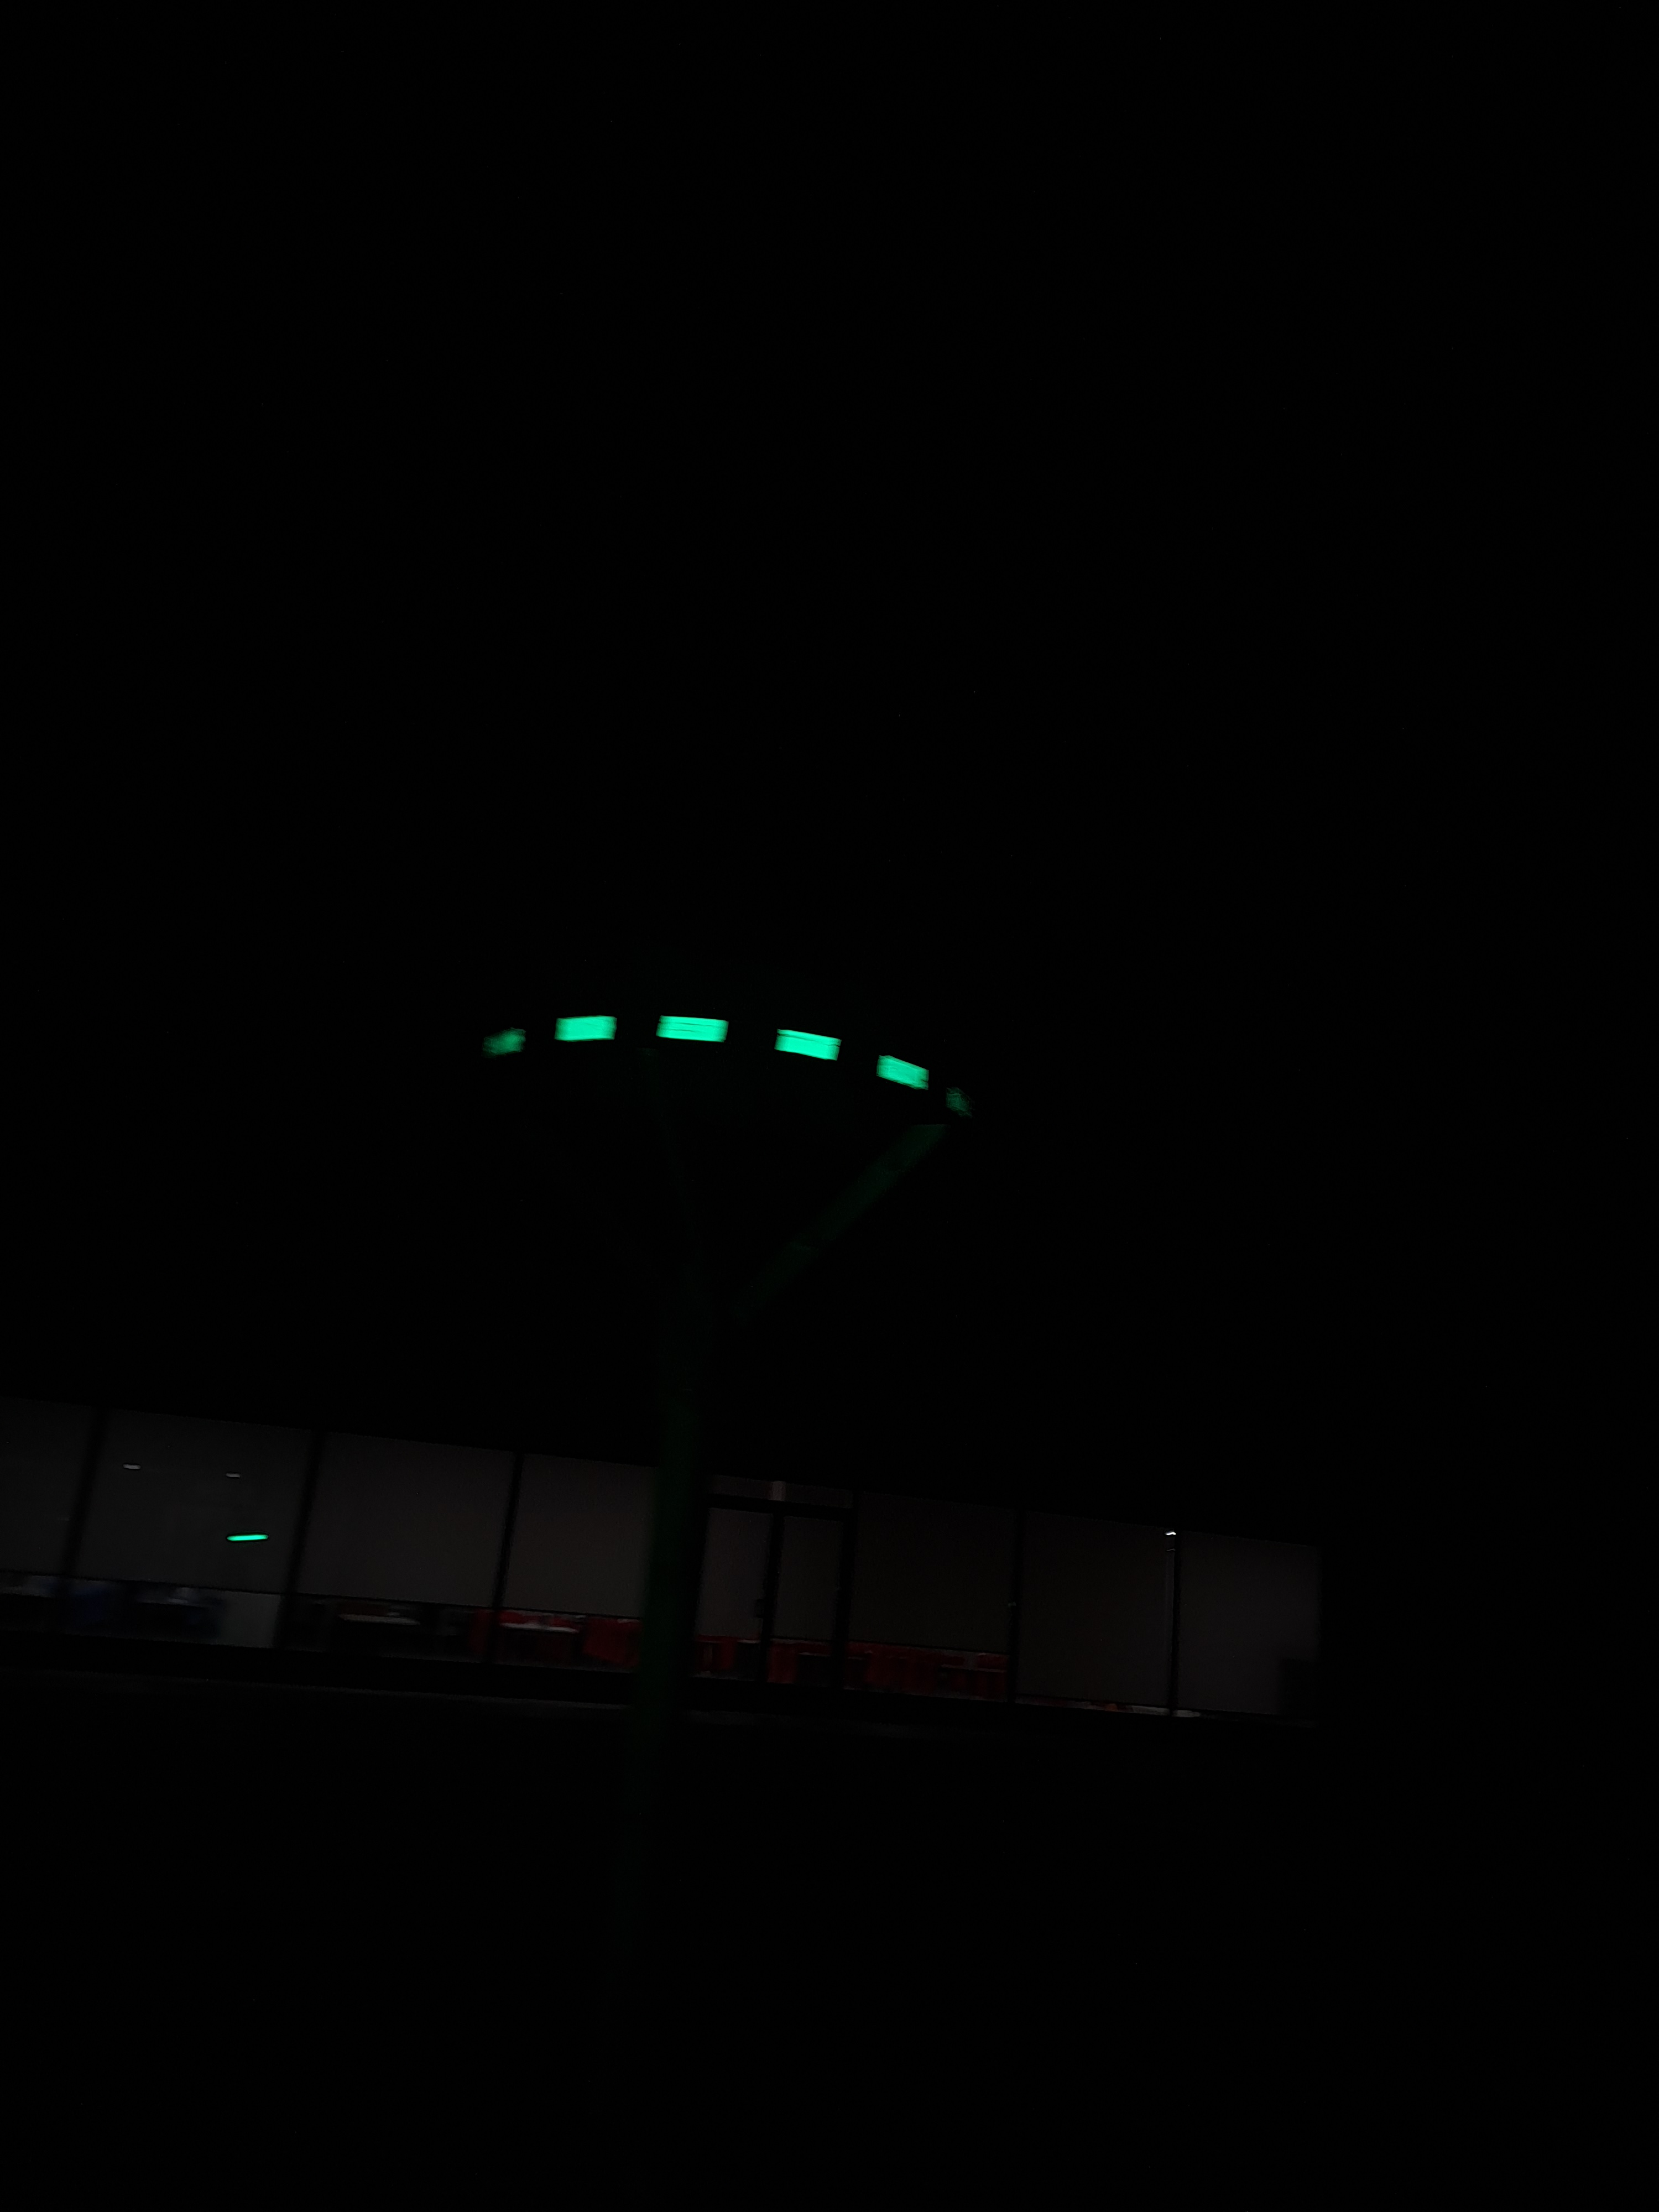hoop: (483, 1003, 939, 1101)
